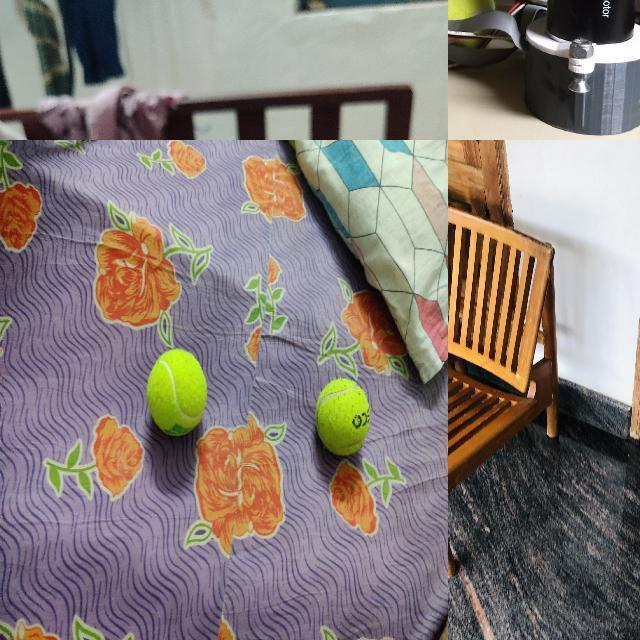tennis-ball: (147, 348, 207, 436), (315, 378, 371, 456)
